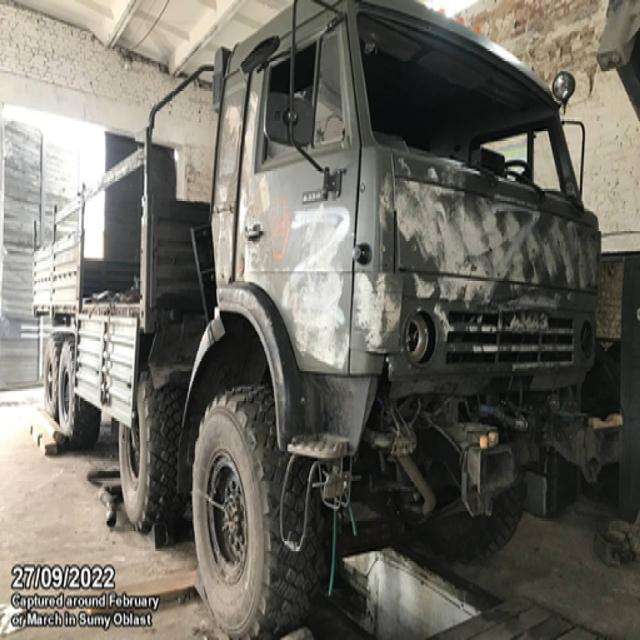TRUCK: (25, 2, 600, 636)
